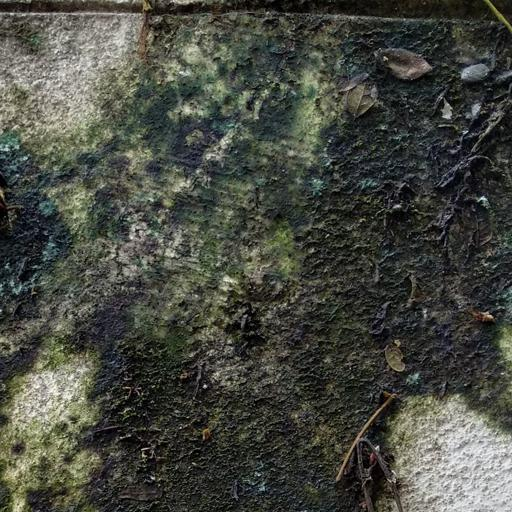algae: (5, 6, 474, 494)
